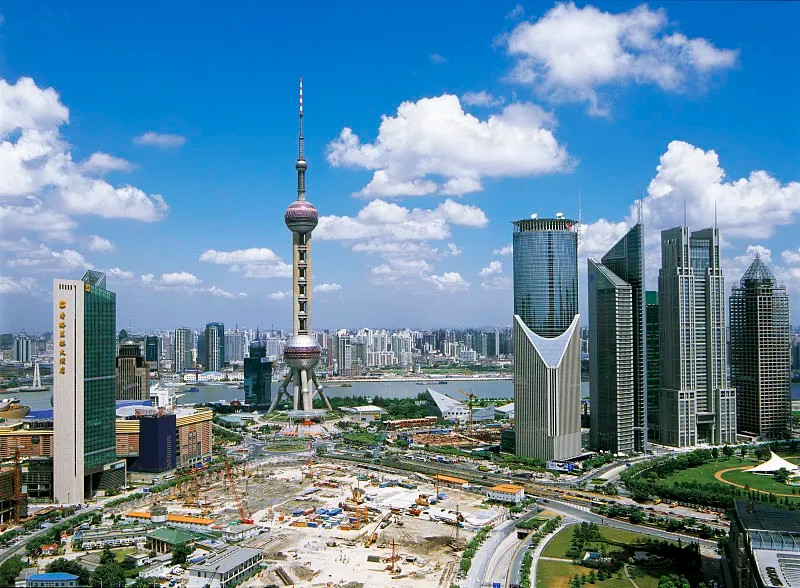Oriental: (269, 78, 331, 410)
